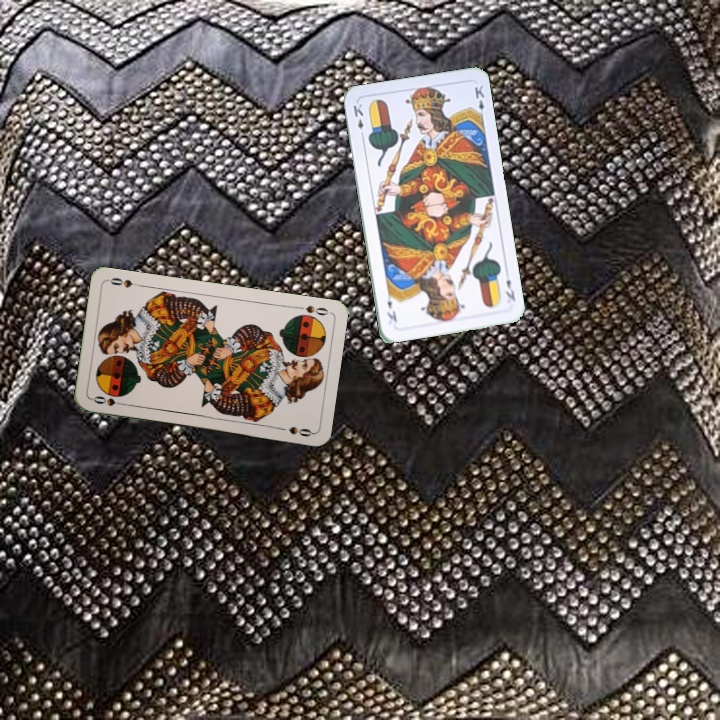EK: (349, 99, 367, 140), (501, 275, 518, 304)
SO: (88, 392, 129, 409), (301, 301, 331, 318)
